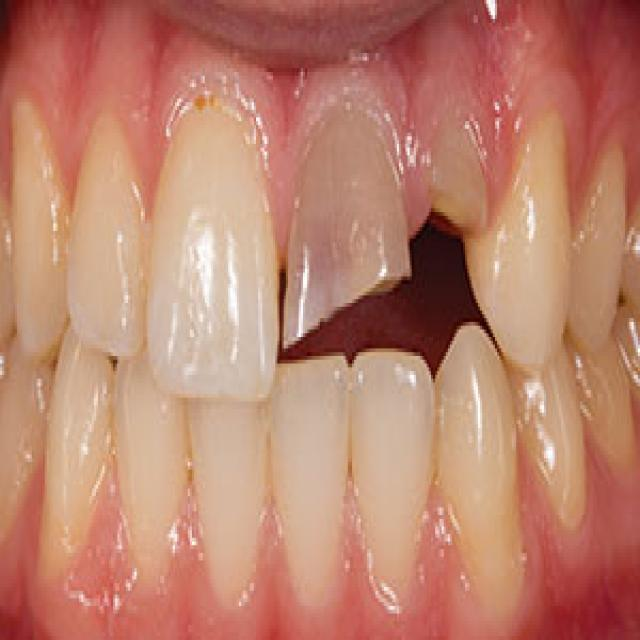Fractured Teeth: (283, 108, 413, 351)
